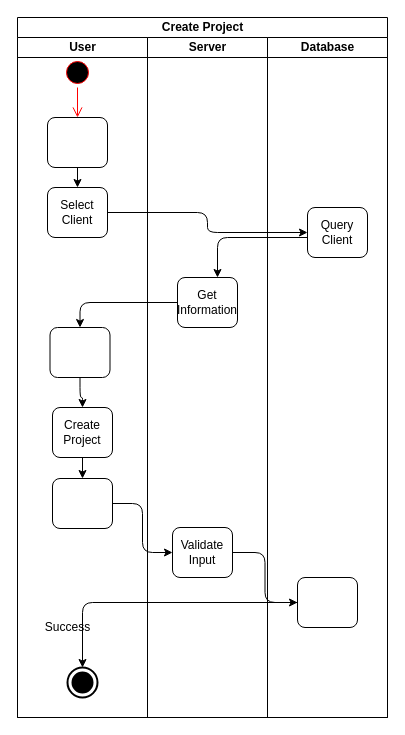
Some shapes in this 405 by 735 pixel diagram are drawn without their labels. The shapes that lost their labels are listed below. From the top down, each one's centre as x and y in pixels, then its label:
the point at 77,142: View Clients
the point at 79,352: Open Client
the point at 82,503: Fill Form
the point at 327,602: Insert Project
